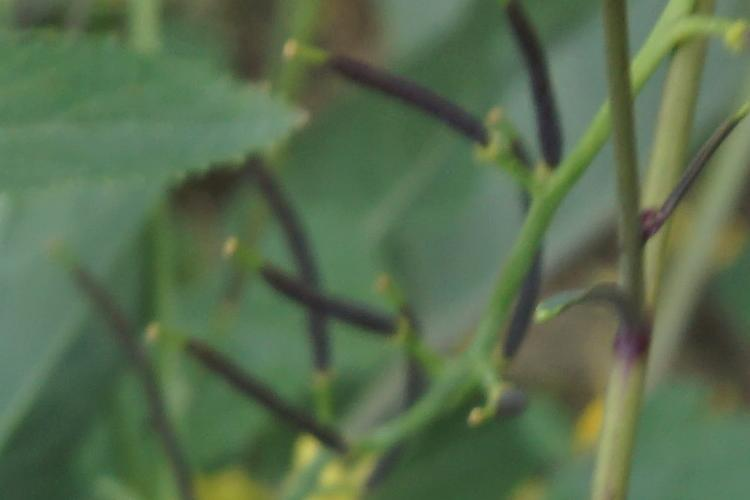pod: (57, 251, 213, 500), (278, 31, 503, 166), (149, 322, 361, 464), (255, 153, 349, 437), (224, 239, 412, 342), (636, 85, 750, 252), (377, 275, 440, 483), (505, 12, 577, 183), (449, 365, 549, 436), (500, 239, 548, 379)
